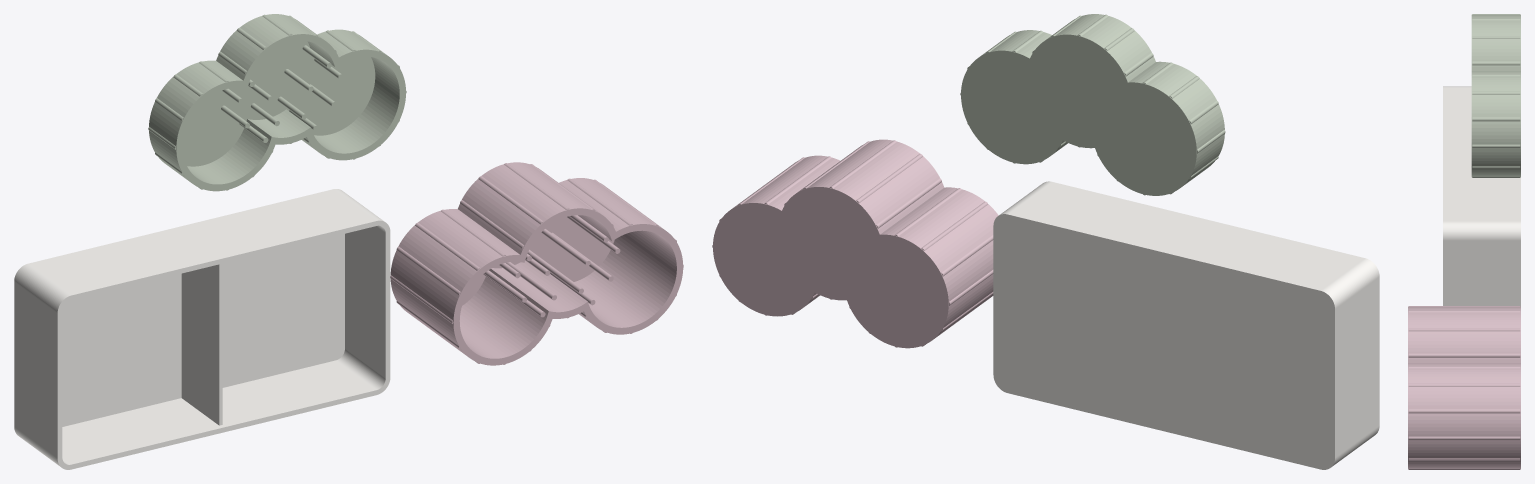
File: vanity-organisers.glb
The picture shows the model from 3 angles, left to right: view 1: azimuth 30°, elevation 25°; view 2: azimuth 150°, elevation 25°; view 3: azimuth 270°, elevation 25°; orthographic projection. The views are drawn at different scales.
Visible parts, largest first — view 1: drawer-tray-168x84__1, swell-organiser-55__2, swell-organiser-24__3; view 2: drawer-tray-168x84__1, swell-organiser-55__2, swell-organiser-24__3; view 3: swell-organiser-55__2, drawer-tray-168x84__1, swell-organiser-24__3.
Boxes of the visible parts, x1,y1,x2,y2 form: drawer-tray-168x84__1: (14,189,390,469); swell-organiser-55__2: (390,162,683,365); swell-organiser-24__3: (148,14,406,191); drawer-tray-168x84__1: (993,181,1379,469); swell-organiser-55__2: (712,139,998,348); swell-organiser-24__3: (960,14,1225,195); swell-organiser-55__2: (1408,306,1520,469); drawer-tray-168x84__1: (1443,86,1520,306); swell-organiser-24__3: (1471,14,1520,177).
Bounding box in the file's own units: 0.3065 × 0.1765 × 0.055.
